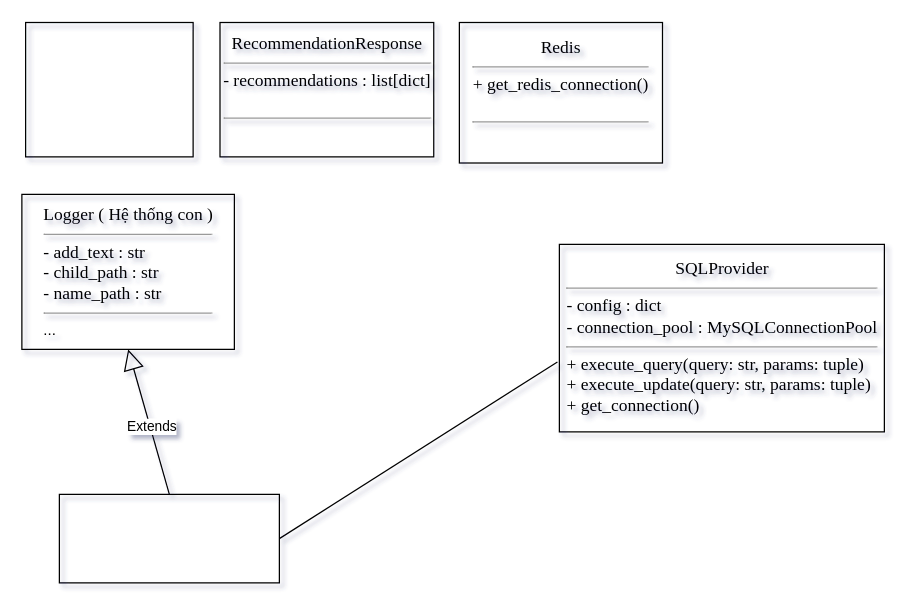
The diagram is 914 pixels wide and 613 high, and some of its shapes have lost their labels. The centre of each missing label's shape, as x and y in pixels:
LoggerServer name_path = "server/": [168,538]
SuggestionsResponse + suggestions : list: [108,89]
